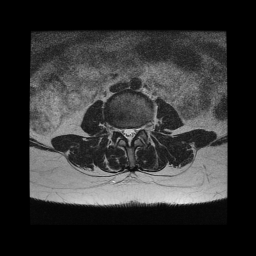CCS_normal: (126, 123, 131, 151)
LFS_severe_stenosis: (137, 119, 143, 135)
LLS_normal: (132, 121, 137, 144)
RFS_stenosis: (114, 119, 120, 137)
RLS_normal: (120, 121, 125, 140)
